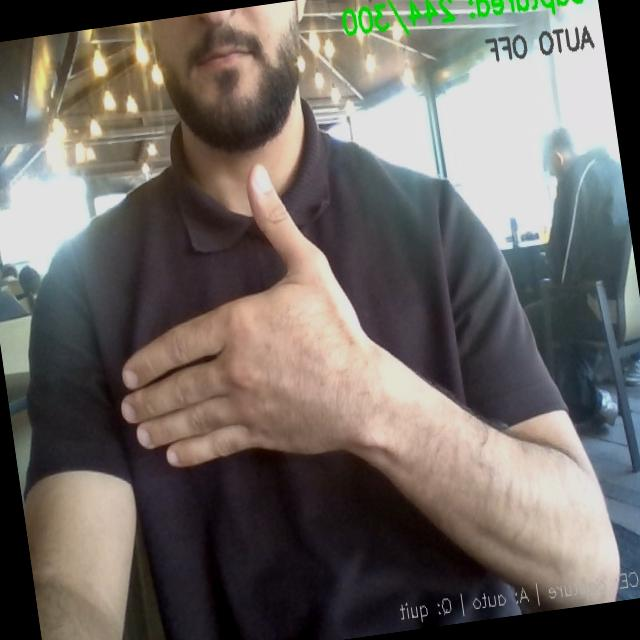Hand: (122, 166, 374, 466)
